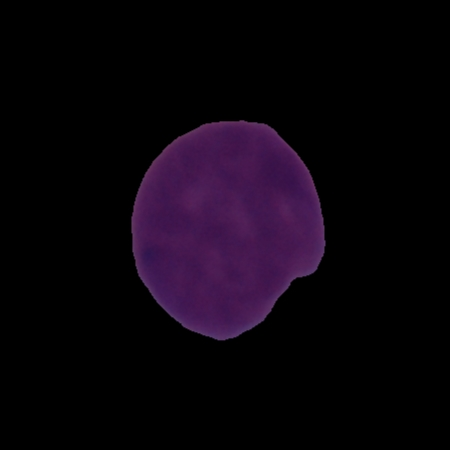ALL: (125, 116, 330, 344)
